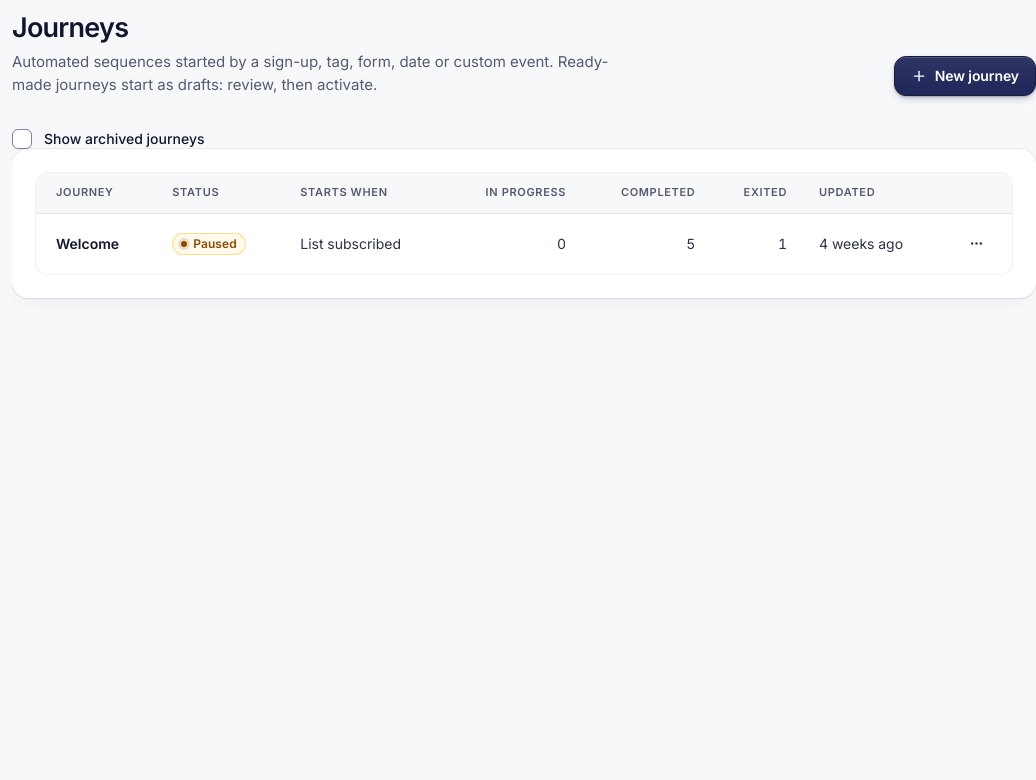
Scenario: journeys list actions › explains why a journey with history cannot be deleted and duplicates on request
Step 1. Click the button named "Actions for Welcome" → (976, 244), box left=960, top=228, right=992, bottom=260
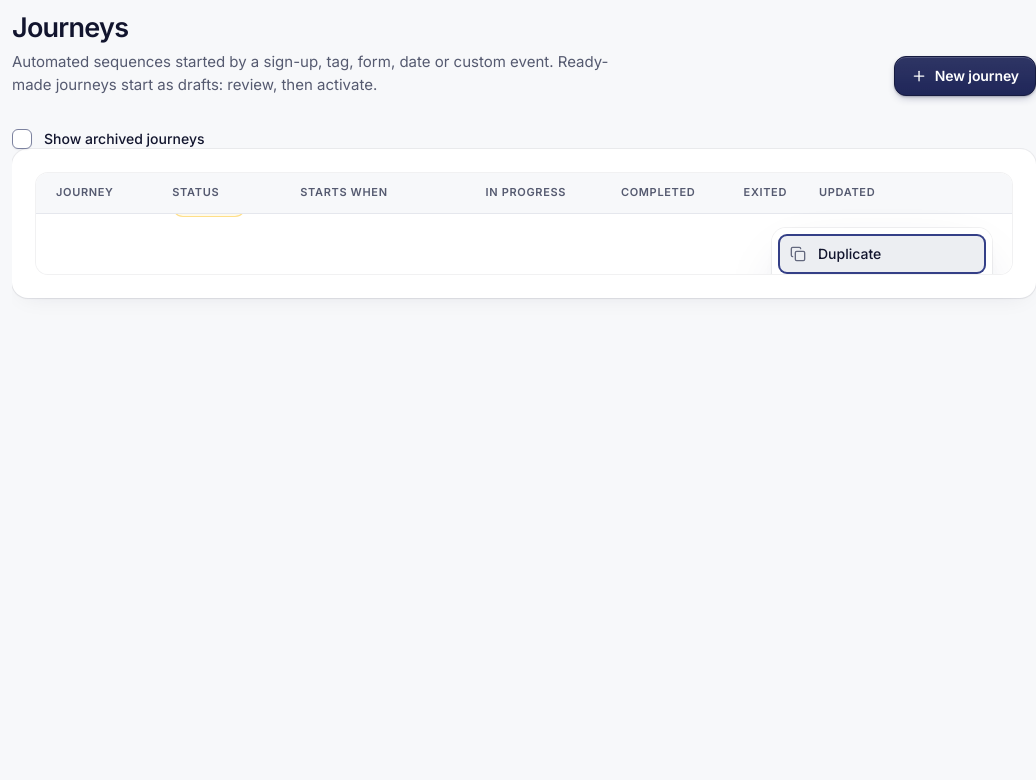
Step 2. Click the menu item "Duplicate" → (882, 254), box left=778, top=234, right=986, bottom=274
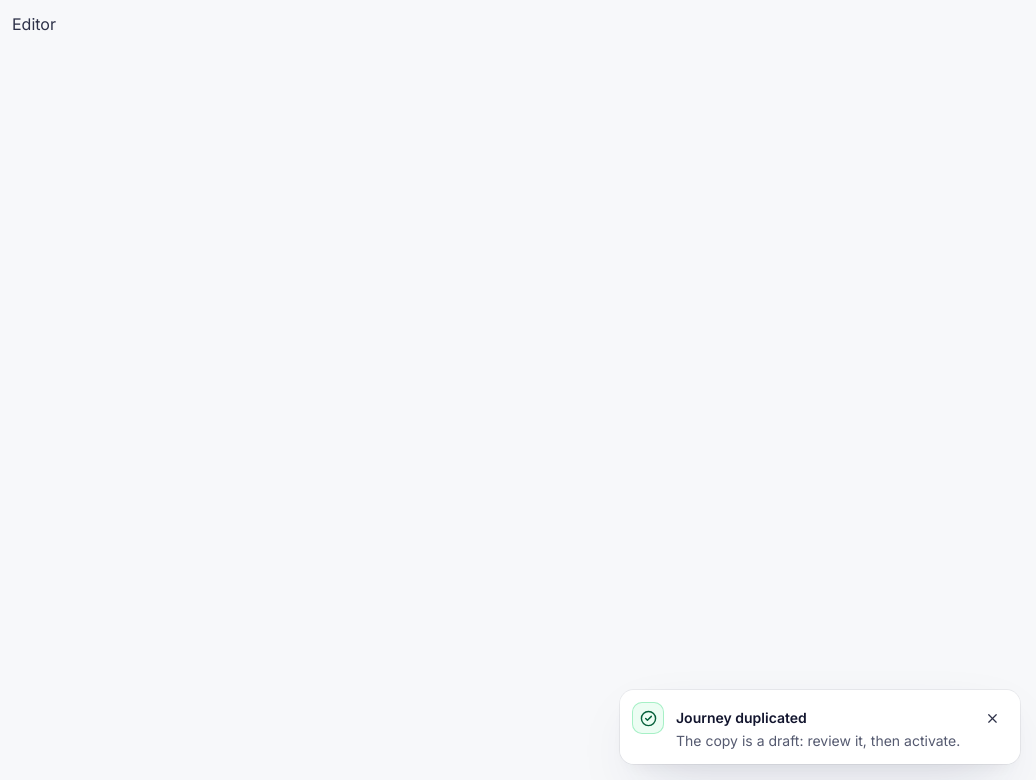
Expected: the text "Editor" is shown, left=12, top=14, right=56, bottom=34
